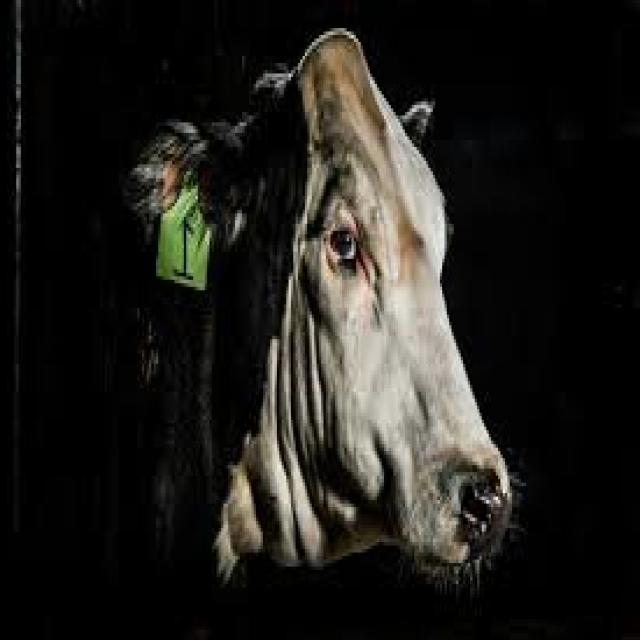cow: (126, 28, 512, 577)
